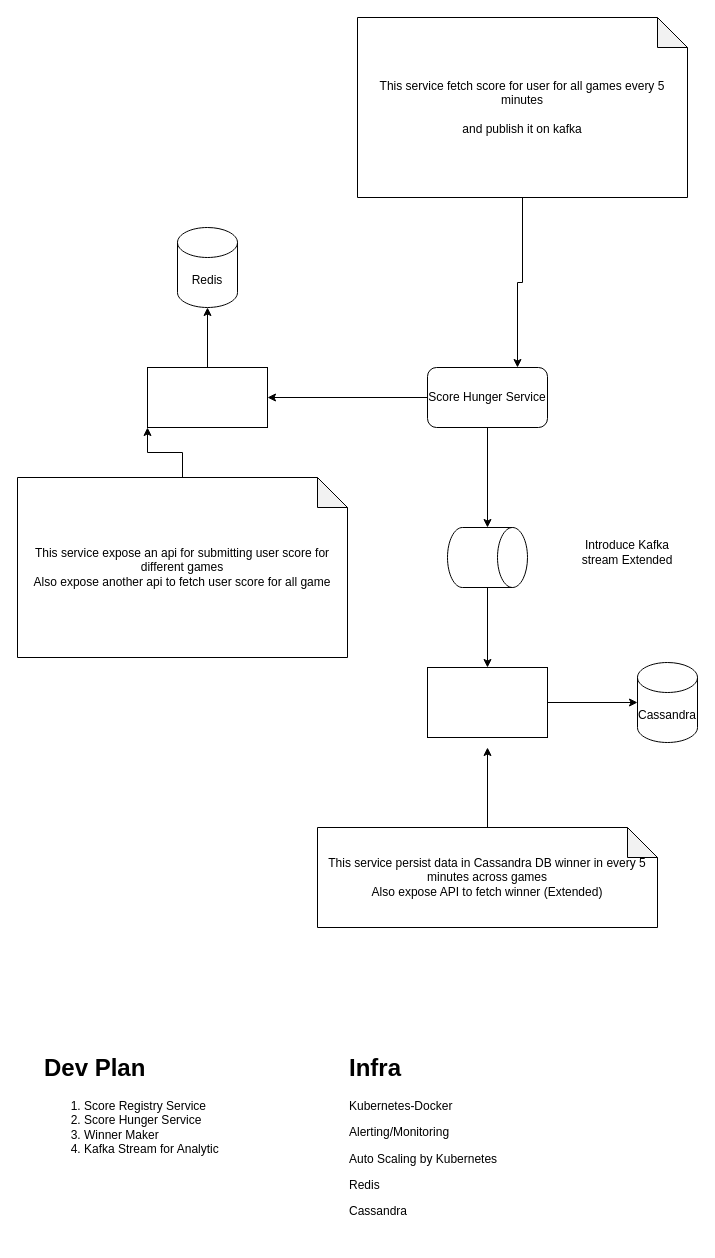
Image size: 715x1258. Some labels were removed from this diagram. The centre of each missing label's shape, as x and y in pixels:
"Kafka" goes at [487,557].
"Score Registry Service" goes at [207,397].
"Winner Maker" goes at [487,702].
